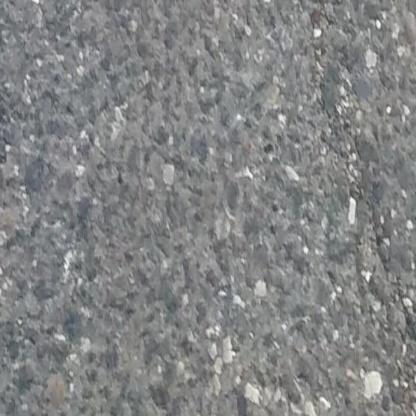Cracks: (329, 111, 416, 358)
